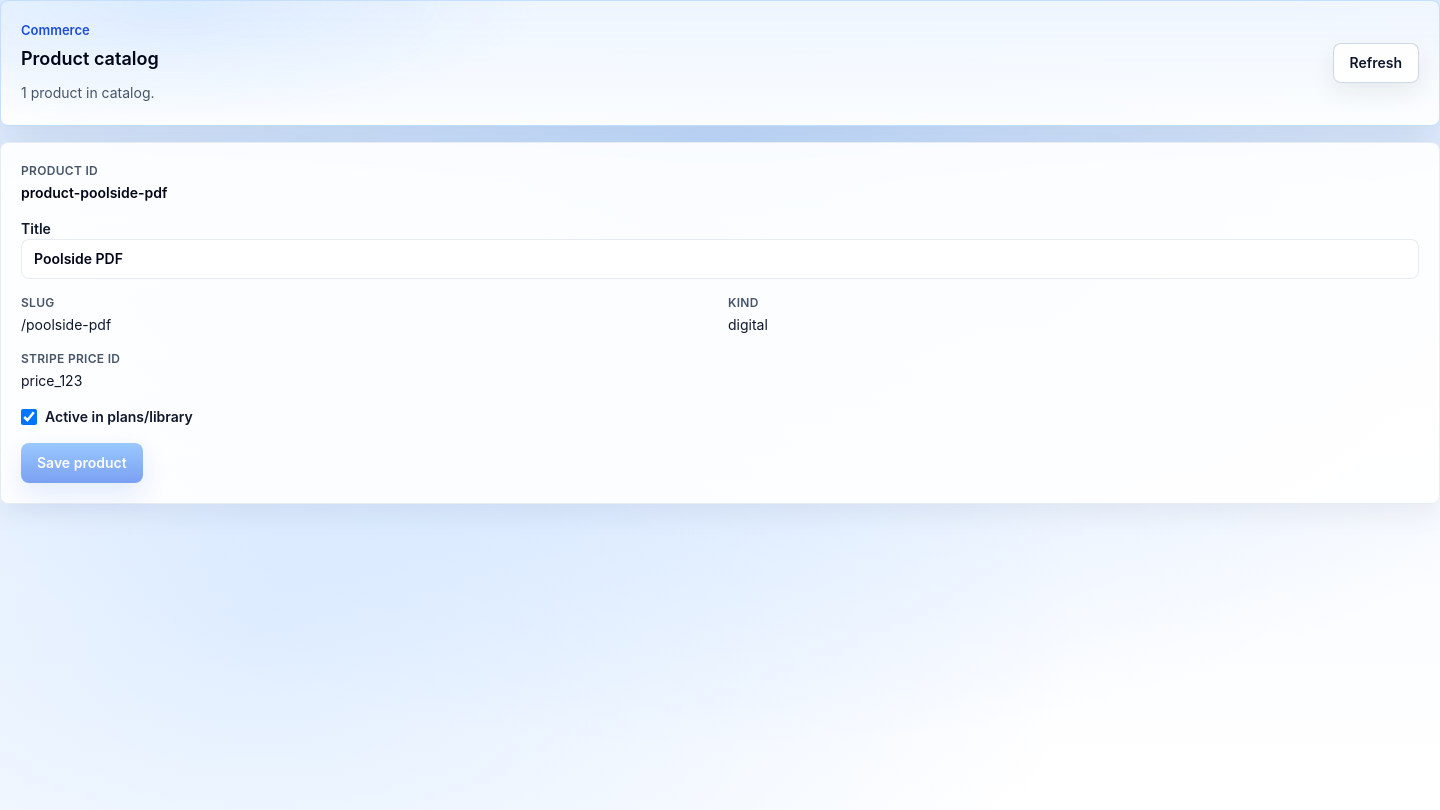
Test: AdminCommerceManager state rendering › keeps product save payloads unchanged while using token actions
Replace the text in the field showing "Poolside PDF" with "Poolside PDF Updated" at (720, 258), box [21,238,1419,278]
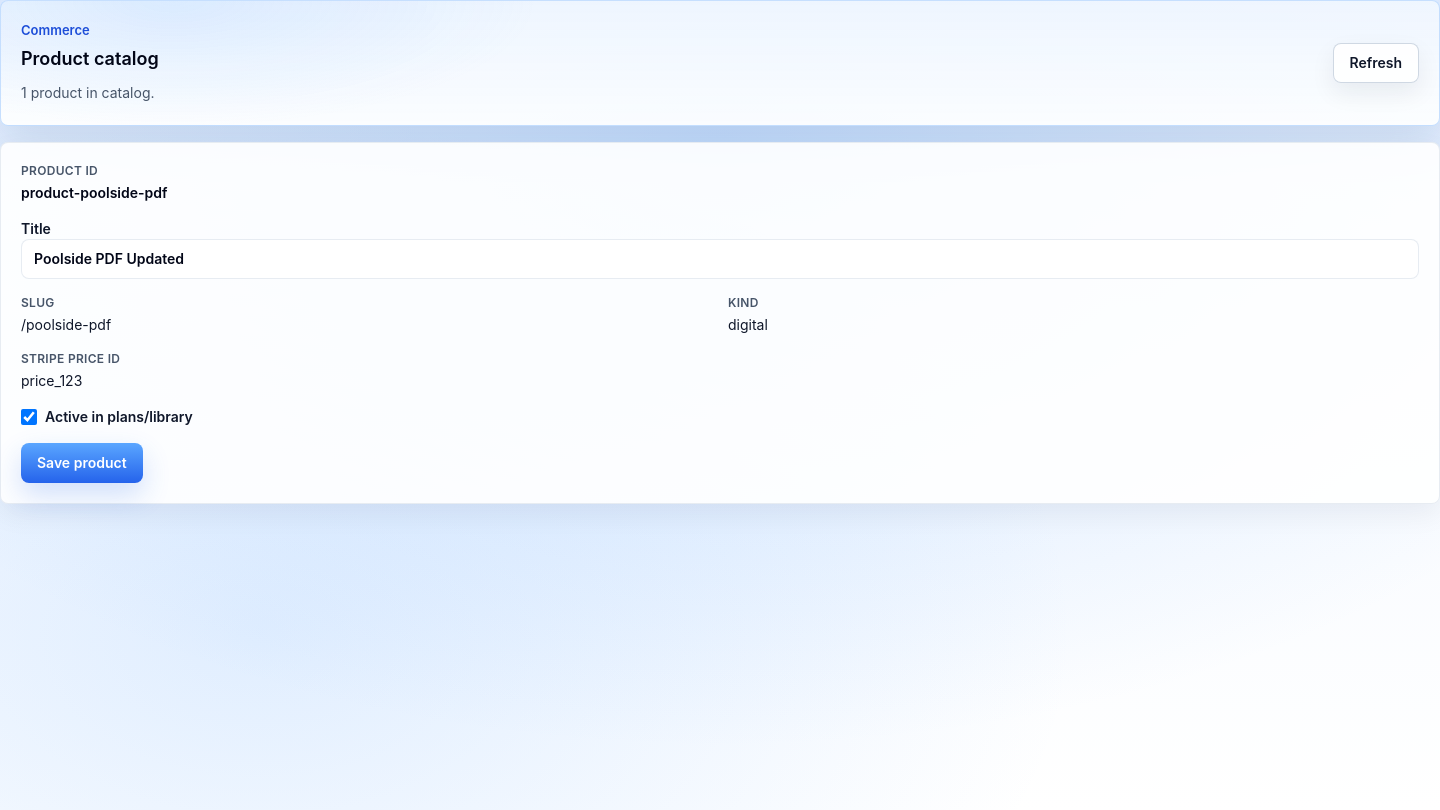
Click the checkbox labelled "Active in plans/library" at (29, 416), box [21,408,37,424]
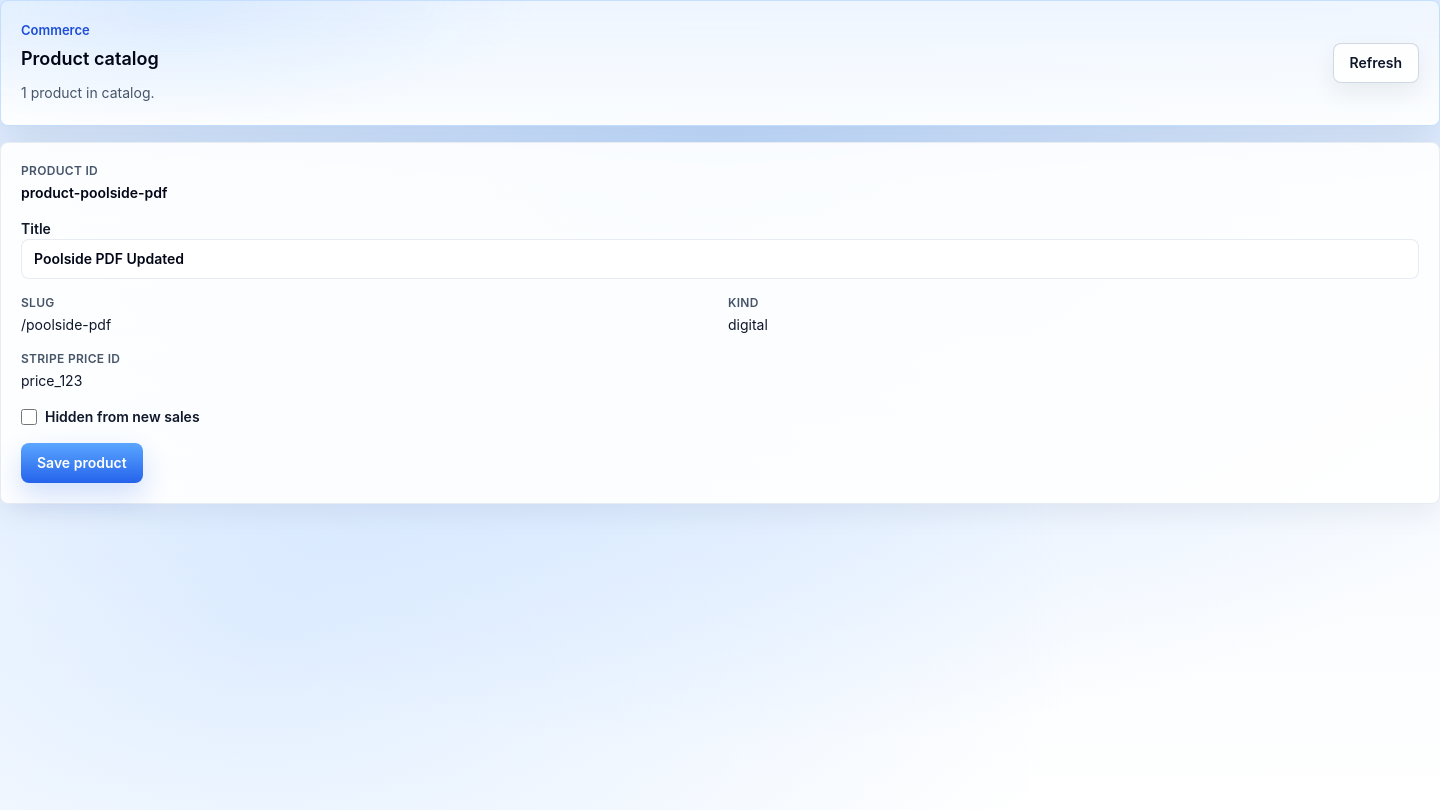
Click the button "Save product" at (82, 462), box [21,442,143,482]
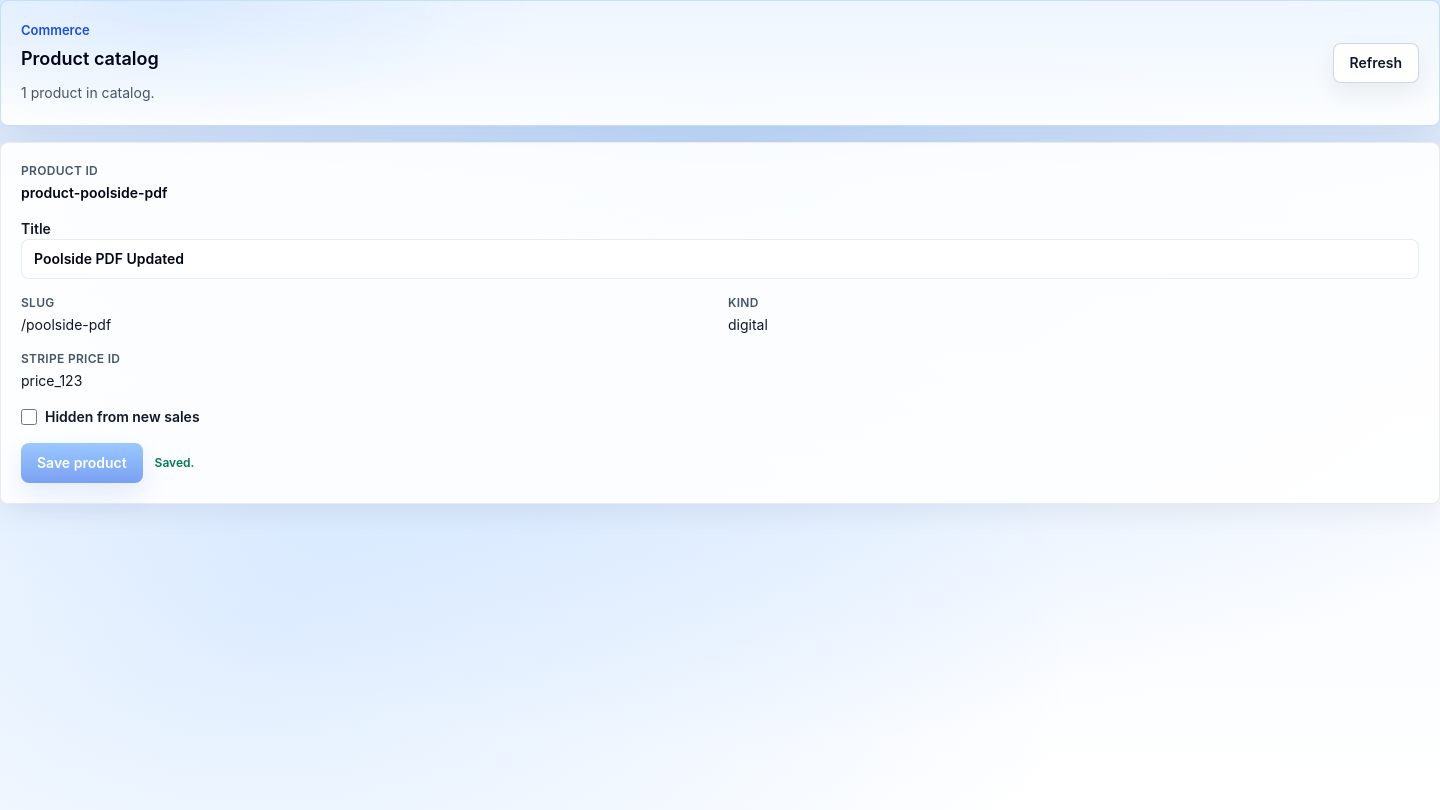
expect the text "Saved." is shown: met, box [155,454,194,470]
